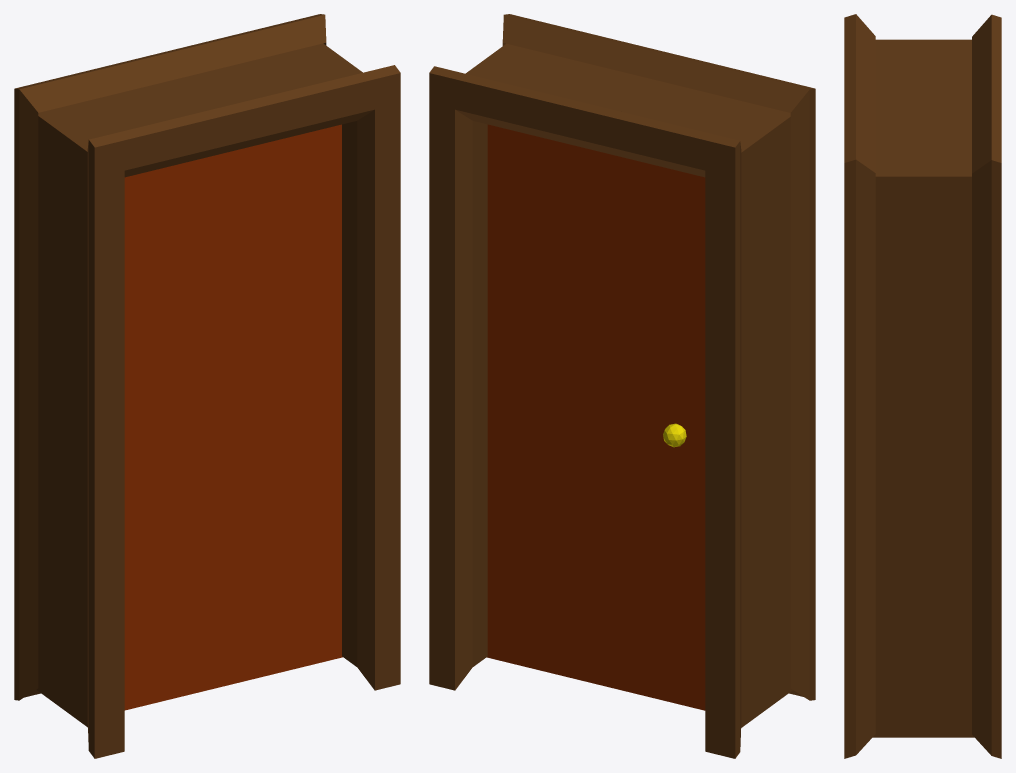
The model's file is kapi.fbx.
3 views of the same model, side by side, from view 1: azimuth 30°, elevation 25°; view 2: azimuth 150°, elevation 25°; view 3: azimuth 270°, elevation 25° (orthographic). The views are drawn at different scales.
Parts seen in each view (by area): view 1: Küp; view 2: Küp; view 3: Küp.
Boxes of the visible parts, x1,y1,x2,y2 form: Küp: (14, 14, 400, 758); Küp: (429, 14, 815, 758); Küp: (844, 14, 1001, 758).
Size of the model in its own units: 117 by 224 by 53.3.
